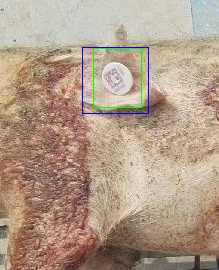text: (93, 48, 141, 107)
